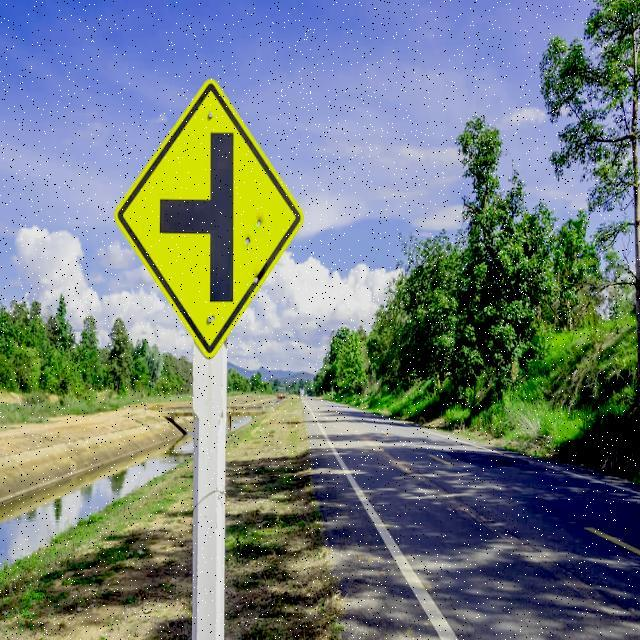Traffic sign: (110, 74, 308, 362)
